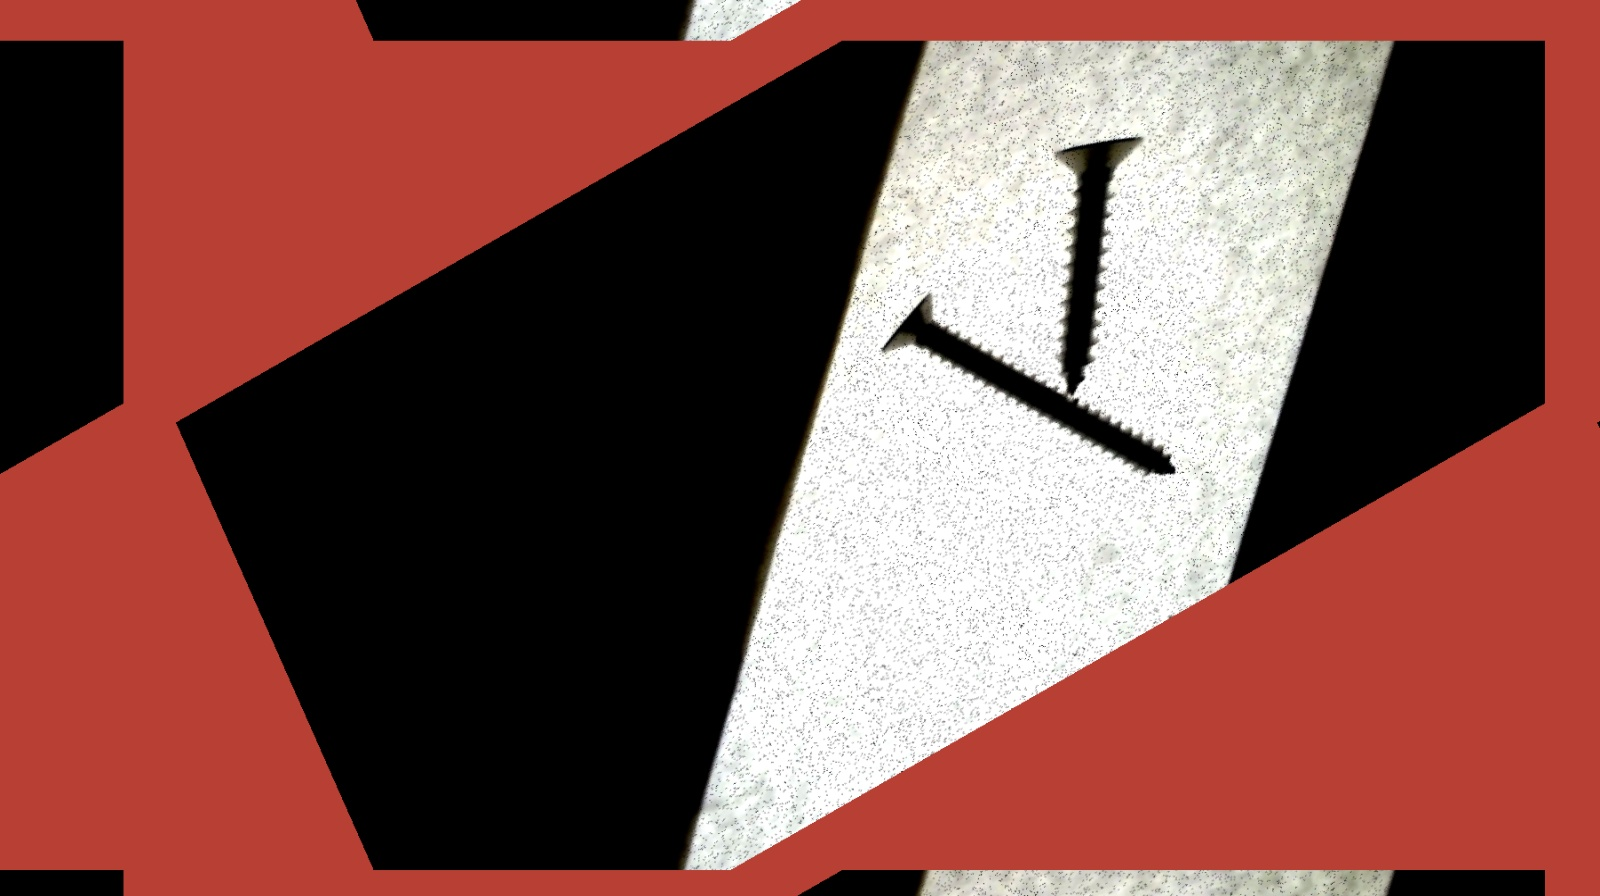S001: (978, 106, 1215, 399)
S002: (865, 201, 1188, 591)
